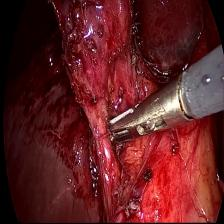Grasper: (101, 67, 184, 152)
